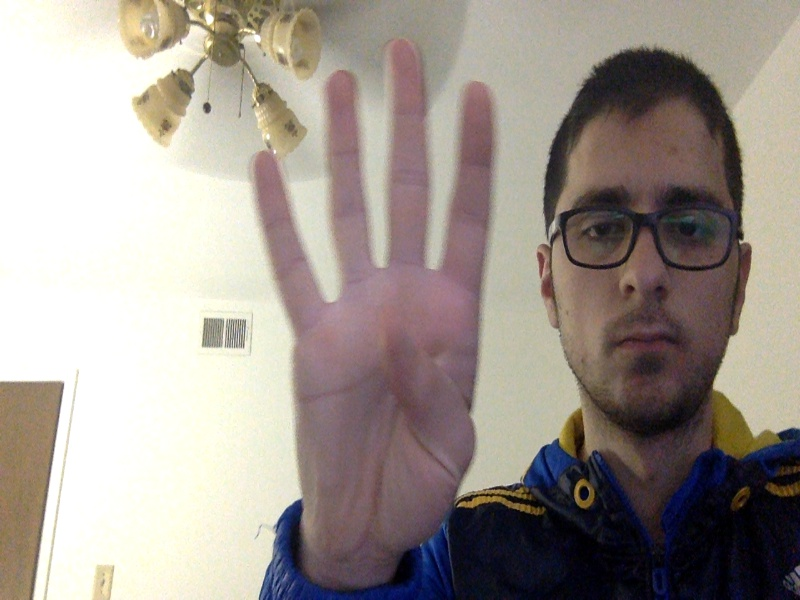4-hand: (251, 37, 496, 565)
